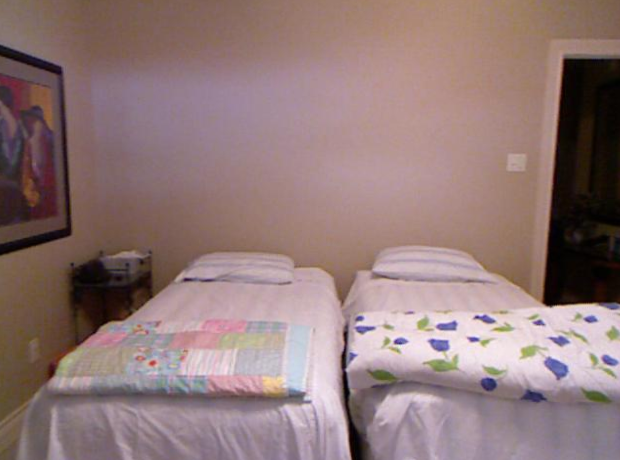openedDoor: (539, 37, 620, 307)
